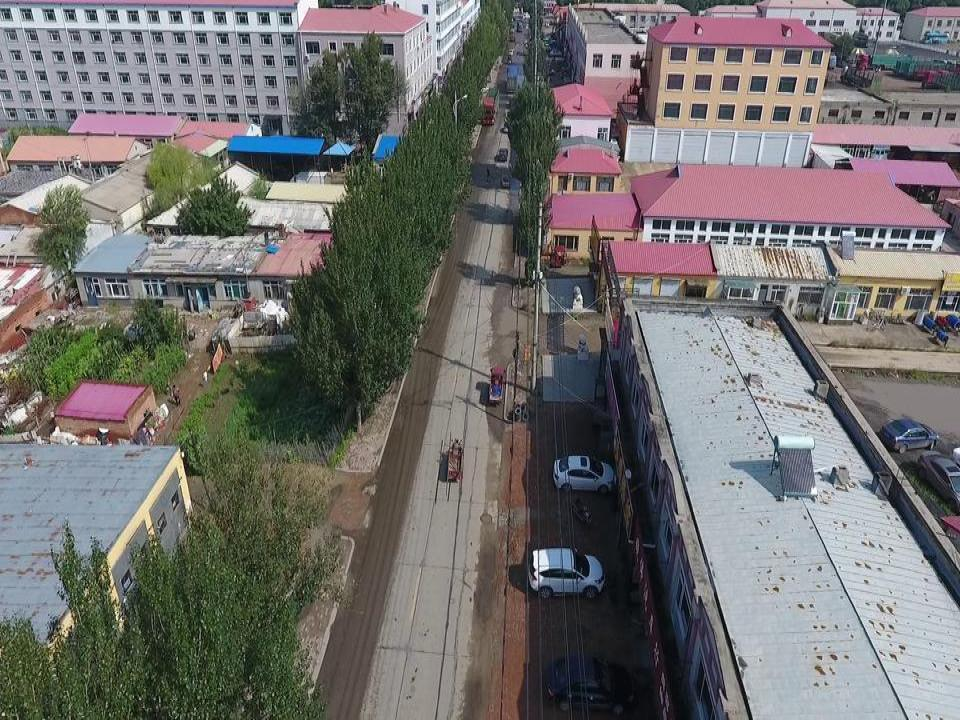bus: (506, 63, 518, 92)
car: (542, 648, 637, 711), (527, 542, 605, 594), (552, 453, 618, 495), (920, 453, 960, 503), (882, 418, 941, 450), (498, 147, 507, 164), (501, 173, 510, 188), (548, 47, 564, 54)
van: (481, 82, 499, 127)
